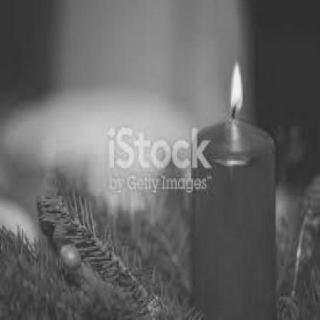Fire: (223, 57, 246, 115)
